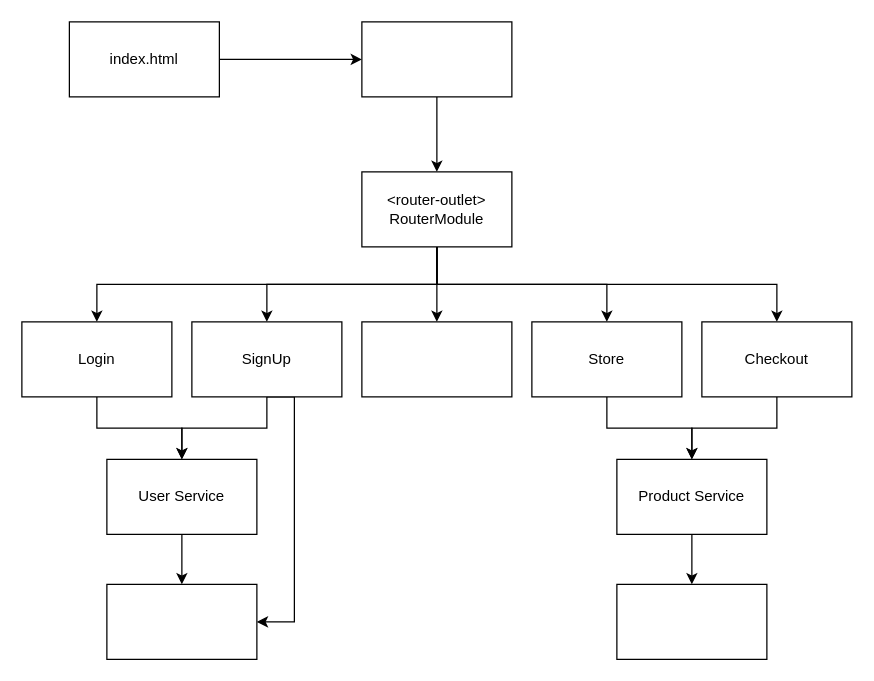
This 874x681 diagram has some shape labels left out. Each missing label, with the centre of its shape:
"<app-root> app.component.ts" belongs at (436,59).
"Home" belongs at (436,359).
"Product Model" belongs at (691,621).
"User Model" belongs at (181,621).
